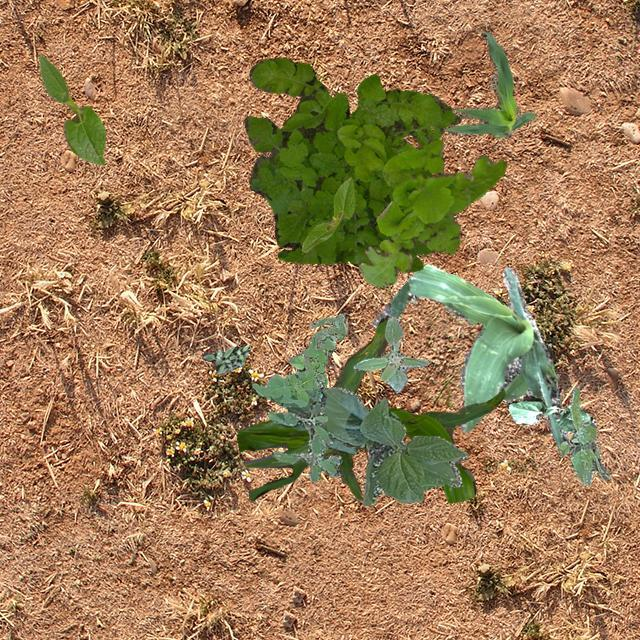crop: (236, 316, 504, 502), (370, 264, 566, 456), (321, 386, 466, 504), (444, 28, 534, 136), (39, 53, 104, 164), (286, 386, 356, 454), (301, 177, 354, 250), (506, 396, 594, 432)
weed: (243, 57, 460, 270), (358, 138, 506, 286), (250, 312, 346, 406), (266, 388, 341, 481), (352, 316, 427, 392), (560, 384, 610, 484), (202, 342, 250, 373), (288, 334, 316, 371)
